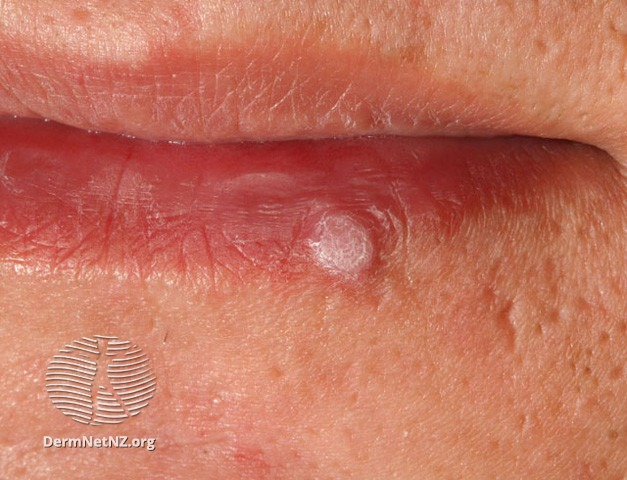Warts: (301, 205, 384, 289)
